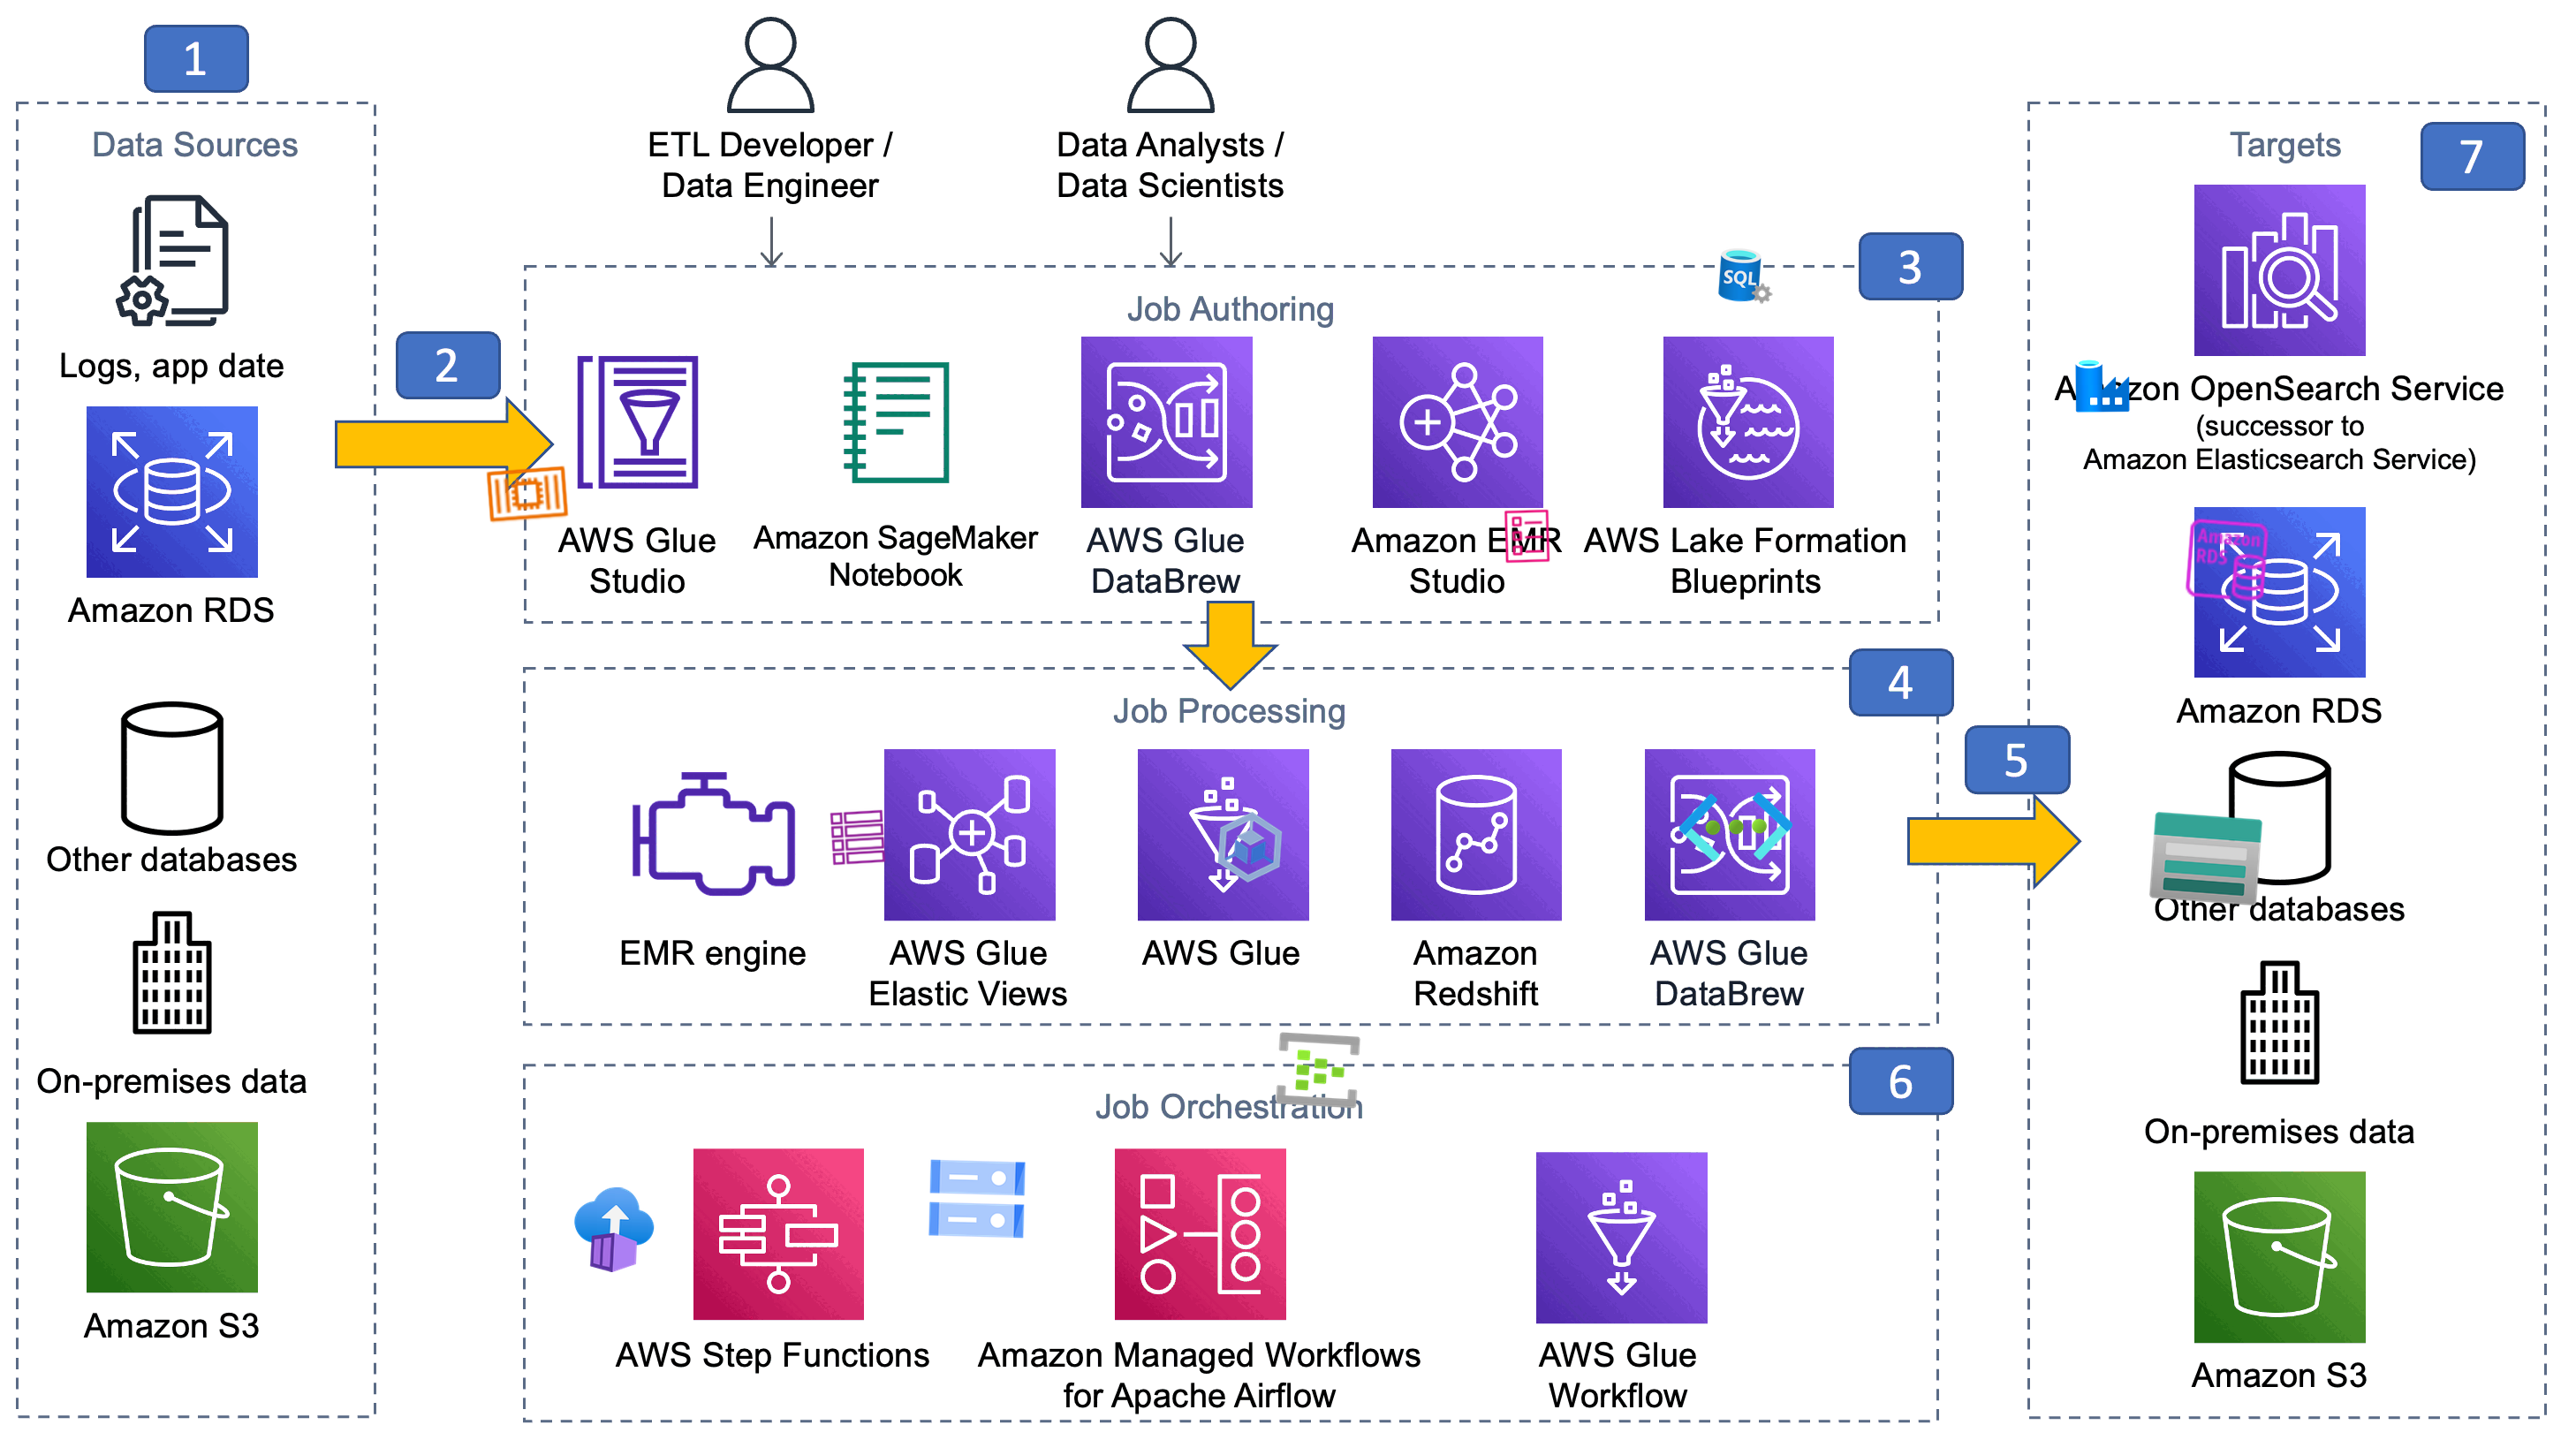aws_aurora_amazon_rds_instance: (2181, 515, 2273, 607)
aws_cloudformation_template: (1497, 508, 1555, 566)
aws_dynamodb_table: (828, 807, 888, 867)
aws_elastic_container_service_container_2: (481, 448, 573, 540)
azure_container_instances: (570, 1185, 658, 1275)
azure_data_factories: (2074, 356, 2132, 414)
azure_event_hubs: (1274, 1024, 1362, 1114)
azure_sql_server: (1716, 244, 1778, 306)
azure_storage_accounts: (2144, 798, 2266, 920)
azure_virtual_networks: (1677, 768, 1794, 885)
gcp_cloud_storage: (918, 1141, 1035, 1258)
gcp_google_kubernetes_engine: (1205, 801, 1295, 893)
